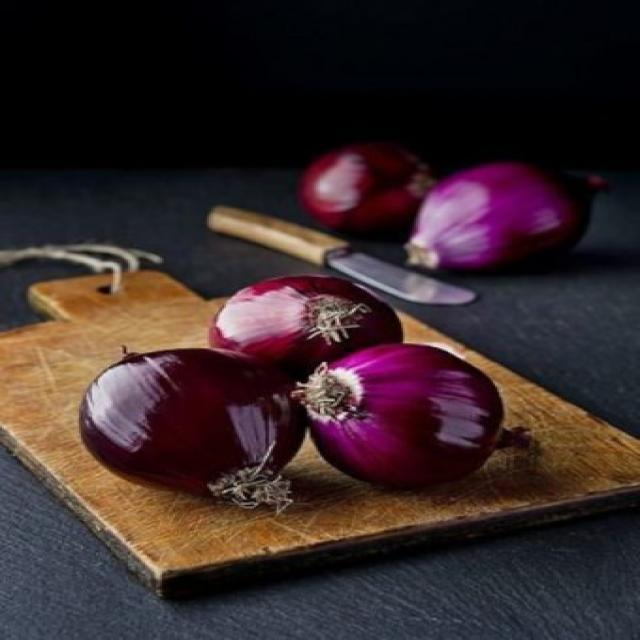Onion: (79, 343, 307, 519), (288, 339, 541, 484), (403, 160, 611, 271), (210, 272, 405, 375), (298, 139, 434, 232)
